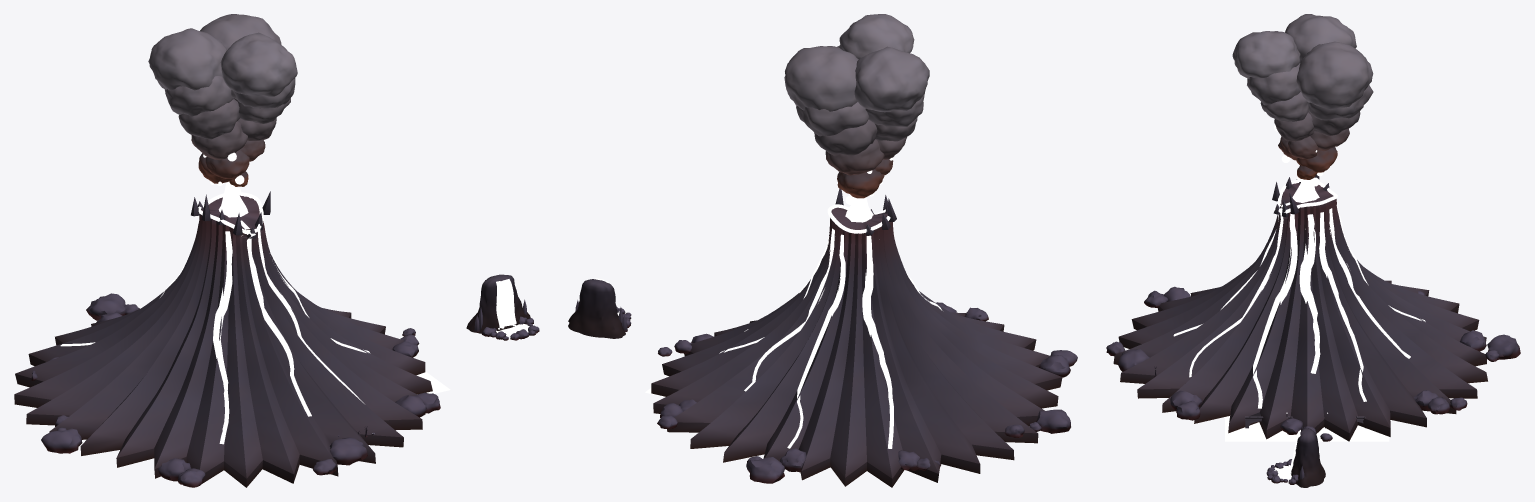
File: world-volcano.glb
3 renders of one model, left to right at view 1: azimuth 30°, elevation 25°; view 2: azimuth 150°, elevation 25°; view 3: azimuth 270°, elevation 25°, orthographic. The views are drawn at different scales.
Parts seen in each view (by area): view 1: volcano.body.lit, volcano.smoke.lit, volcano.lava.glow, lavafall.body.lit, lavafall.lava.glow; view 2: volcano.body.lit, volcano.smoke.lit, volcano.lava.glow, lavafall.body.lit; view 3: volcano.body.lit, volcano.smoke.lit, volcano.lava.glow, lavafall.body.lit, bridge.lava.glow.
Part boxes in pixels (x1,y1,x2,y2): volcano.body.lit: (14, 191, 440, 487); volcano.smoke.lit: (148, 14, 297, 186); volcano.lava.glow: (60, 149, 370, 444); lavafall.body.lit: (466, 274, 539, 340); lavafall.lava.glow: (496, 279, 529, 335); volcano.body.lit: (651, 188, 1077, 487); volcano.smoke.lit: (784, 14, 929, 198); volcano.lava.glow: (719, 157, 942, 448); lavafall.body.lit: (568, 279, 631, 338); volcano.body.lit: (1106, 174, 1520, 441); volcano.smoke.lit: (1232, 14, 1373, 179); volcano.lava.glow: (1173, 125, 1432, 408); lavafall.body.lit: (1266, 428, 1325, 487); bridge.lava.glow: (1225, 412, 1389, 441).
Size of the model in its own units: 409 by 298 by 328.
